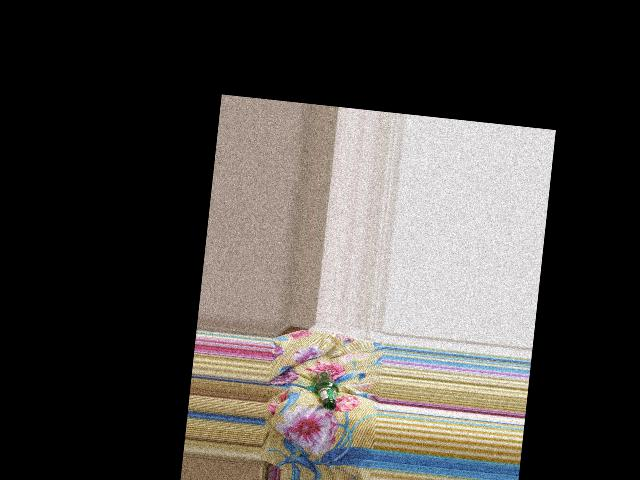beer: (312, 371, 340, 410)
